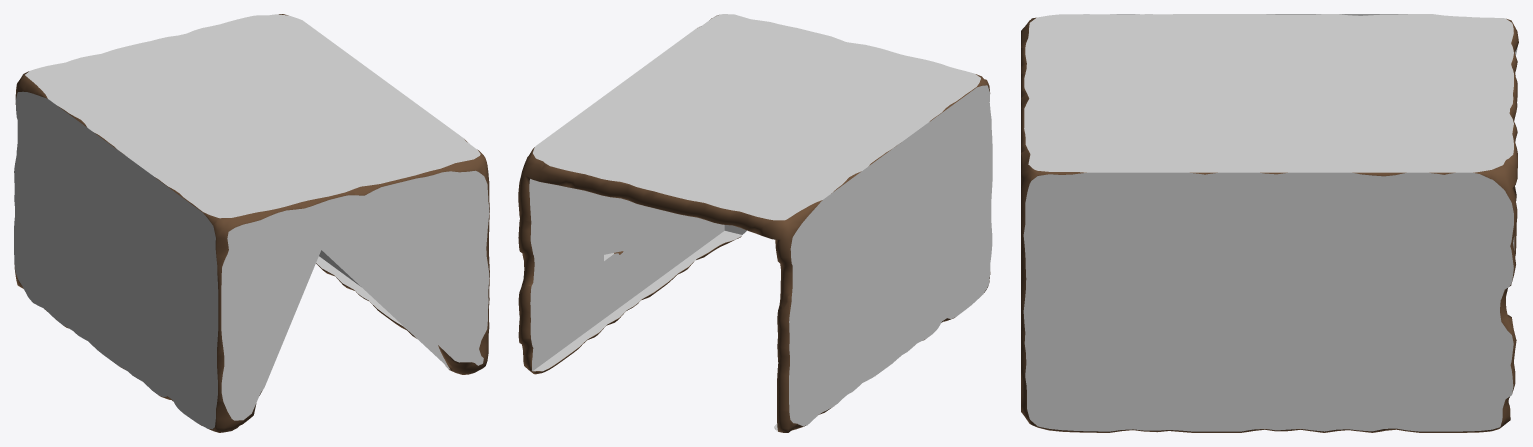
File: Small House.fbx
3 renders of one model, left to right at view 1: azimuth 30°, elevation 25°; view 2: azimuth 150°, elevation 25°; view 3: azimuth 270°, elevation 25°, orthographic. The views are drawn at different scales.
Visible parts, largest first — view 1: small house.001_dmg; view 2: small house.001_dmg; view 3: small house.001_dmg.
Boxes of the visible parts, left/top/right/bottom form: small house.001_dmg: left=14, top=14, right=489, bottom=432; small house.001_dmg: left=518, top=14, right=992, bottom=432; small house.001_dmg: left=1021, top=14, right=1518, bottom=432.
Bounding box in the file's own units: 350 × 269 × 463.
